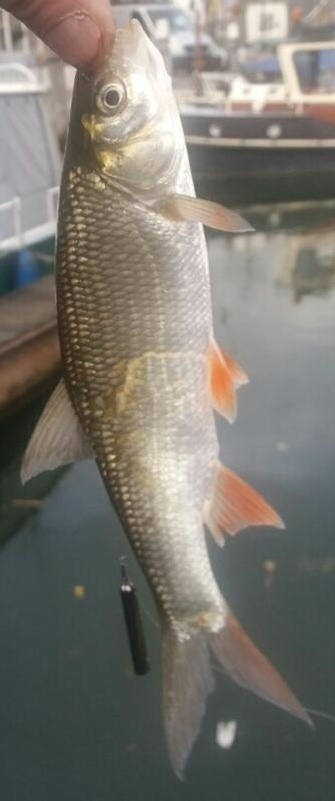Leuciscus idus: (20, 20, 315, 781)
